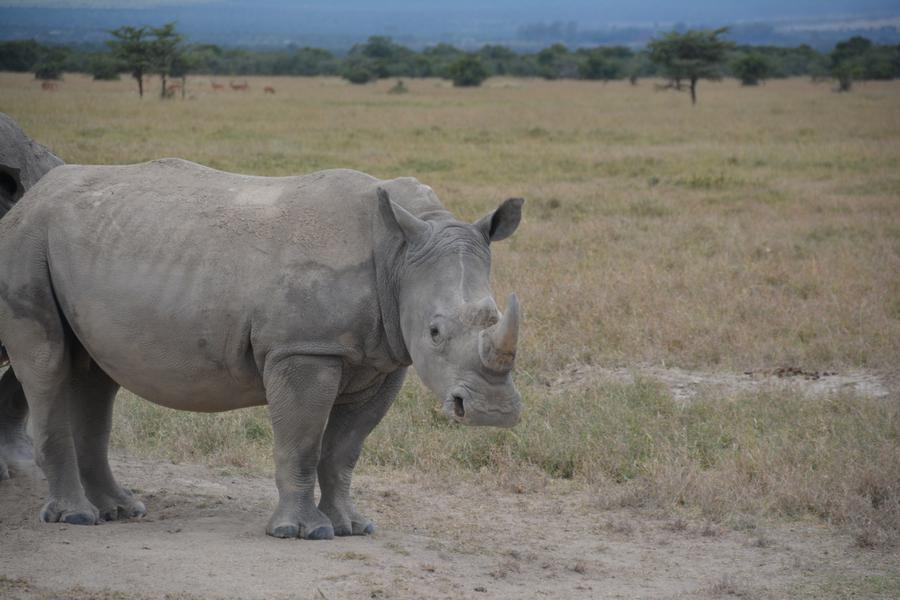rhino: (46, 177, 503, 462)
